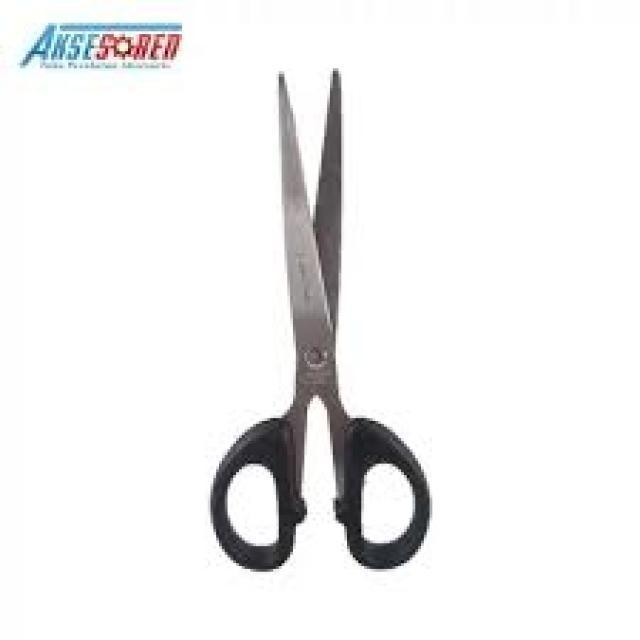Scissors: (195, 46, 443, 600)
